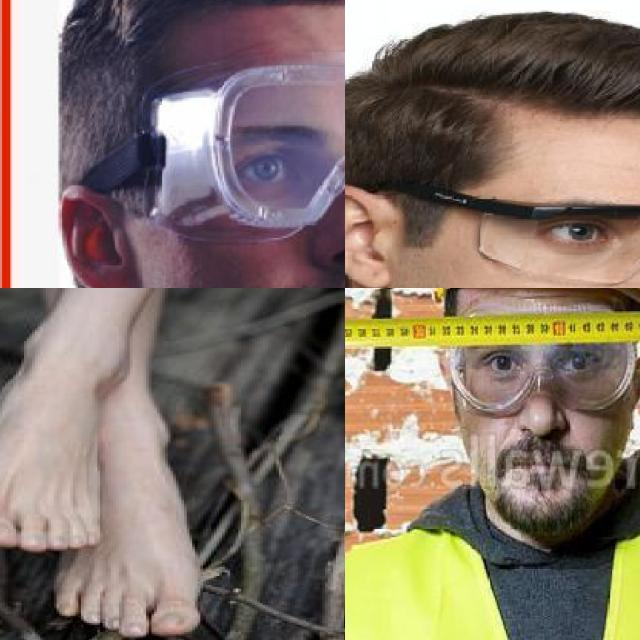Barefoots: (0, 366, 112, 550)
No_Ear-Protection: (54, 185, 137, 288), (345, 183, 393, 288)
face_nomask: (228, 121, 345, 288), (482, 342, 610, 482), (523, 184, 640, 288)
glasses: (124, 56, 345, 237), (345, 169, 640, 288), (457, 310, 638, 416)
head_nohelmet: (345, 9, 640, 172)
person: (345, 288, 640, 640)
vest: (345, 494, 640, 640)
